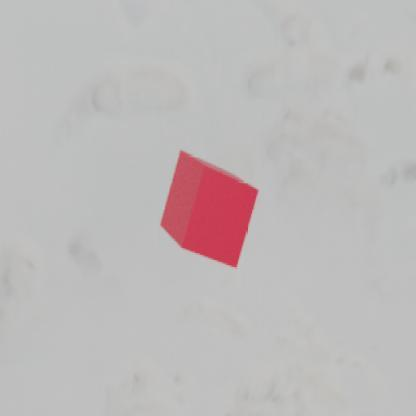red_cube: (158, 147, 258, 269)
